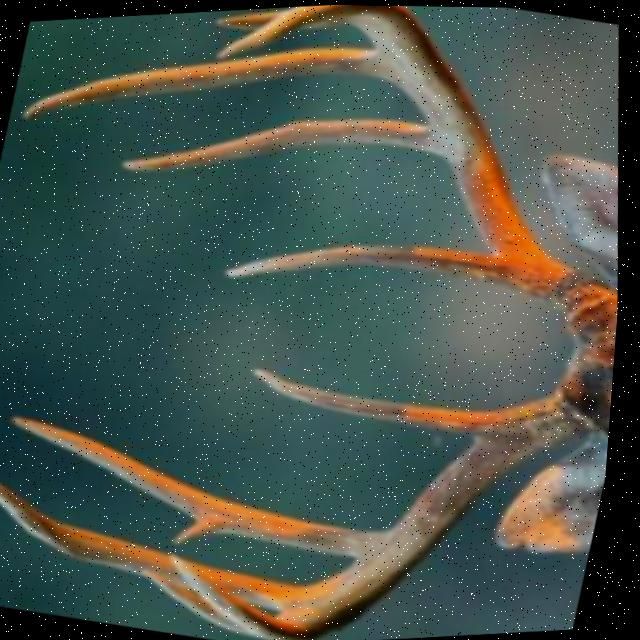E1: (180, 517, 227, 543)
L-F: (173, 394, 587, 640)
L-G1: (256, 365, 502, 434)
L-G2: (16, 415, 390, 556)
R-F: (212, 4, 622, 321)
R-G1: (226, 240, 520, 286)
R-G2: (120, 114, 443, 170)
R-G3: (23, 44, 388, 118)
